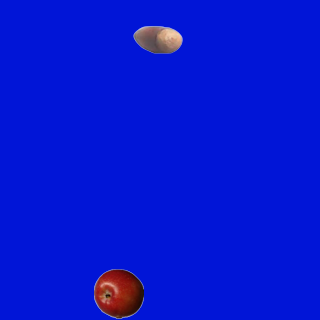Apple Braeburn: (93, 268, 143, 318)
Hazelnut: (132, 14, 182, 64)
